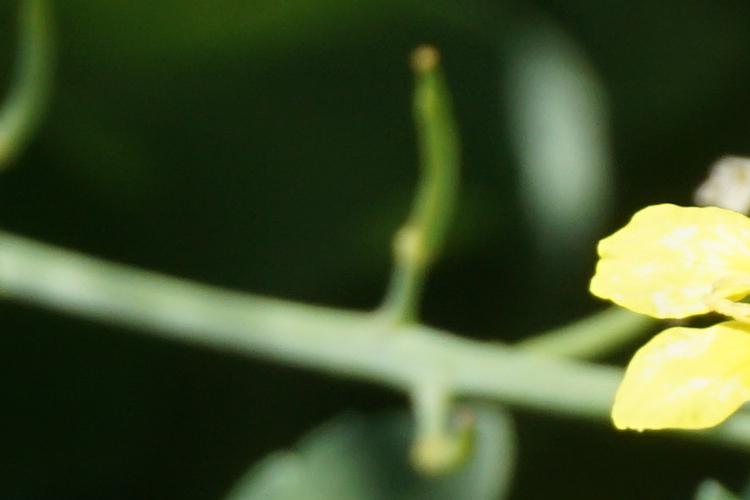yellow: (607, 200, 750, 435)
